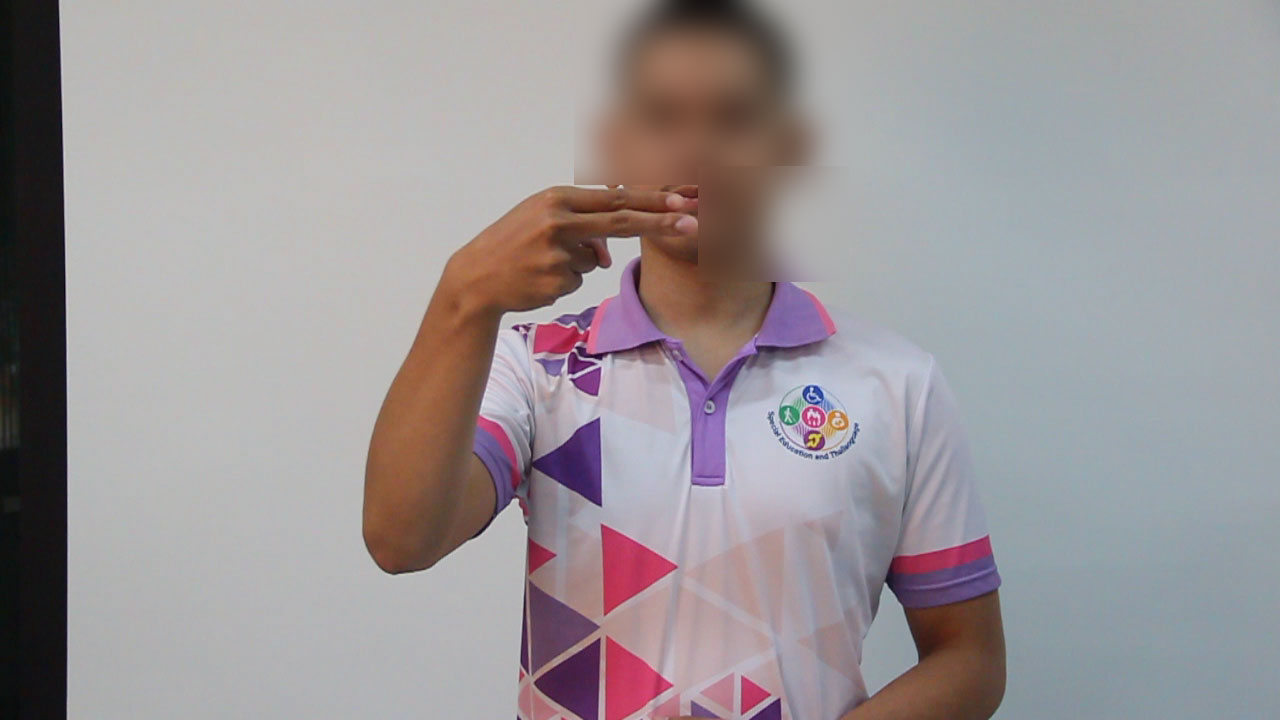hor: (419, 179, 712, 326)
